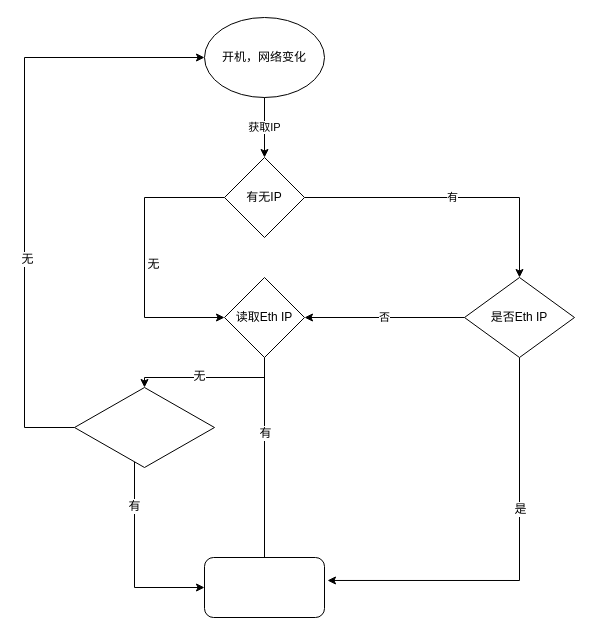
Some shapes in this 592 by 635 pixel diagram are drawn without their labels. The shapes that lost their labels are listed below. From the top down, each one's centre as x and y in pixels, then its label:
At (x=144, y=427): "读取normalethip 读取forceethip".
At (x=264, y=587): "创建新可用IP并发送给IPC".
